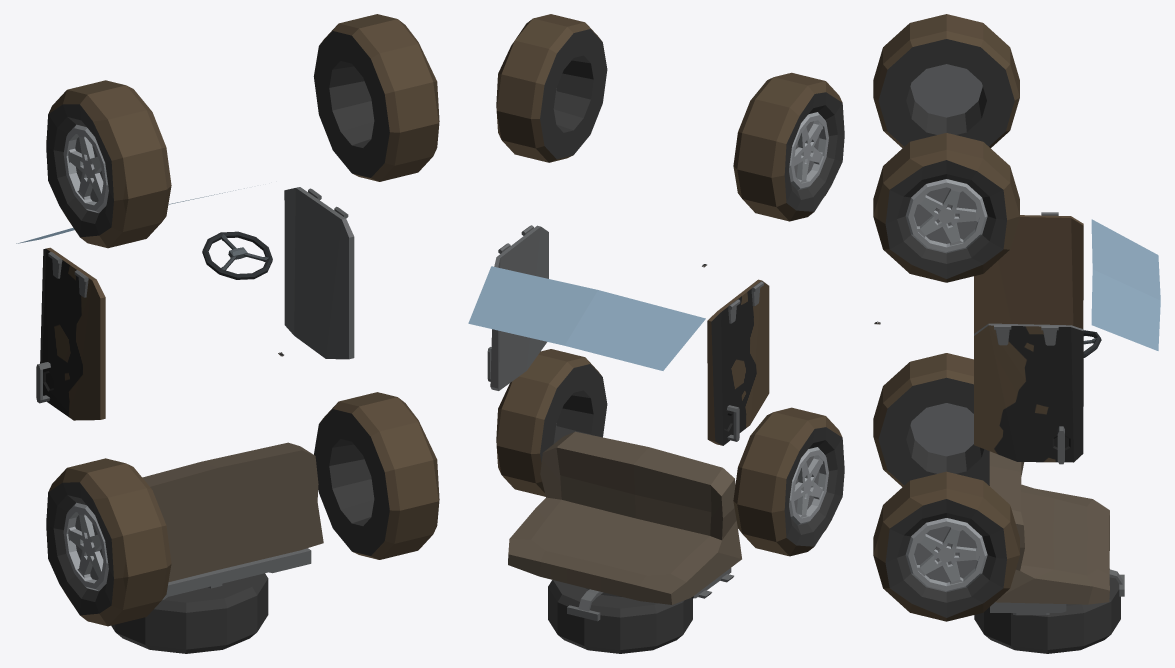
The model's file is SK_Veh_4x4_Car_Alt_01_half.fbx.
3 views of the same model, side by side, from view 1: azimuth 30°, elevation 25°; view 2: azimuth 150°, elevation 25°; view 3: azimuth 270°, elevation 25° (orthographic). The views are drawn at different scales.
Parts seen in each view (by area): view 1: SK_Veh_4x4_Car_Rear_Seat_Alt_01_positive, SK_Veh_4x4_Car_Wheel_fl_Alt_01_positive, SK_Veh_4x4_Car_Wheel_fr_Alt_01_positive, SK_Veh_4x4_Car_Wheel_rr_Alt_01_positive, SK_Veh_4x4_Car_Wheel_rl_Alt_01_positive, SK_Veh_4x4_Car_Door_L_Alt_01_positive, SK_Veh_4x4_Car_Rear_Door_Alt_01_positive, SK_Veh_4x4_Car_Door_R_Alt_01_positive, SK_Veh_4x4_Car_SteeringW_Alt_01_positive, SK_Veh_4x4_Car_Wheel_fl_Alt_01_negative, SK_Veh_4x4_Car_Wheel_rl_Alt_01_negative, SK_Veh_4x4_Car_Wheel_rr_Alt_01_negative (+1 smaller); view 2: SK_Veh_4x4_Car_Rear_Seat_Alt_01_positive, SK_Veh_4x4_Car_Glass_Alt_01_positive, SK_Veh_4x4_Car_Wheel_fr_Alt_01_positive, SK_Veh_4x4_Car_Wheel_fl_Alt_01_positive, SK_Veh_4x4_Car_Wheel_rr_Alt_01_positive, SK_Veh_4x4_Car_Wheel_rl_Alt_01_positive, SK_Veh_4x4_Car_Door_R_Alt_01_positive, SK_Veh_4x4_Car_Rear_Door_Alt_01_positive, SK_Veh_4x4_Car_Door_L_Alt_01_positive; view 3: SK_Veh_4x4_Car_Wheel_rl_Alt_01_positive, SK_Veh_4x4_Car_Wheel_fl_Alt_01_positive, SK_Veh_4x4_Car_Wheel_fr_Alt_01_positive, SK_Veh_4x4_Car_Door_L_Alt_01_positive, SK_Veh_4x4_Car_Rear_Seat_Alt_01_positive, SK_Veh_4x4_Car_Wheel_rr_Alt_01_positive, SK_Veh_4x4_Car_Door_R_Alt_01_positive, SK_Veh_4x4_Car_Glass_Alt_01_positive, SK_Veh_4x4_Car_Rear_Door_Alt_01_positive.
Part boxes in pixels (x1,y1,x2,y2): SK_Veh_4x4_Car_Rear_Seat_Alt_01_positive: (142, 442, 323, 581); SK_Veh_4x4_Car_Wheel_fl_Alt_01_positive: (313, 14, 439, 181); SK_Veh_4x4_Car_Wheel_fr_Alt_01_positive: (46, 80, 171, 248); SK_Veh_4x4_Car_Wheel_rr_Alt_01_positive: (46, 458, 171, 626); SK_Veh_4x4_Car_Wheel_rl_Alt_01_positive: (314, 392, 439, 559); SK_Veh_4x4_Car_Door_L_Alt_01_positive: (284, 187, 354, 359); SK_Veh_4x4_Car_Rear_Door_Alt_01_positive: (111, 548, 311, 653); SK_Veh_4x4_Car_Door_R_Alt_01_positive: (36, 247, 105, 420); SK_Veh_4x4_Car_SteeringW_Alt_01_positive: (202, 231, 272, 279); SK_Veh_4x4_Car_Wheel_fl_Alt_01_negative: (391, 105, 438, 147); SK_Veh_4x4_Car_Wheel_rl_Alt_01_negative: (391, 483, 438, 525); SK_Veh_4x4_Car_Wheel_rr_Alt_01_negative: (123, 549, 170, 591); SK_Veh_4x4_Car_Rear_Seat_Alt_01_positive: (508, 431, 741, 604); SK_Veh_4x4_Car_Glass_Alt_01_positive: (468, 266, 705, 370); SK_Veh_4x4_Car_Wheel_fr_Alt_01_positive: (733, 72, 844, 221); SK_Veh_4x4_Car_Wheel_fl_Alt_01_positive: (496, 14, 607, 162); SK_Veh_4x4_Car_Wheel_rr_Alt_01_positive: (733, 407, 844, 556); SK_Veh_4x4_Car_Wheel_rl_Alt_01_positive: (496, 349, 607, 496); SK_Veh_4x4_Car_Door_R_Alt_01_positive: (707, 279, 769, 445); SK_Veh_4x4_Car_Rear_Door_Alt_01_positive: (548, 568, 733, 653); SK_Veh_4x4_Car_Door_L_Alt_01_positive: (487, 225, 548, 390); SK_Veh_4x4_Car_Wheel_rl_Alt_01_positive: (877, 471, 1019, 621); SK_Veh_4x4_Car_Wheel_fl_Alt_01_positive: (877, 133, 1019, 282); SK_Veh_4x4_Car_Wheel_fr_Alt_01_positive: (877, 14, 1019, 148); SK_Veh_4x4_Car_Door_L_Alt_01_positive: (974, 323, 1083, 464); SK_Veh_4x4_Car_Rear_Seat_Alt_01_positive: (989, 451, 1109, 604); SK_Veh_4x4_Car_Wheel_rr_Alt_01_positive: (877, 353, 989, 486); SK_Veh_4x4_Car_Door_R_Alt_01_positive: (974, 212, 1083, 333); SK_Veh_4x4_Car_Glass_Alt_01_positive: (1091, 219, 1160, 350); SK_Veh_4x4_Car_Rear_Door_Alt_01_positive: (974, 569, 1124, 653).
Bounding box in the file's own units: 22659 × 40390 × 19340.
